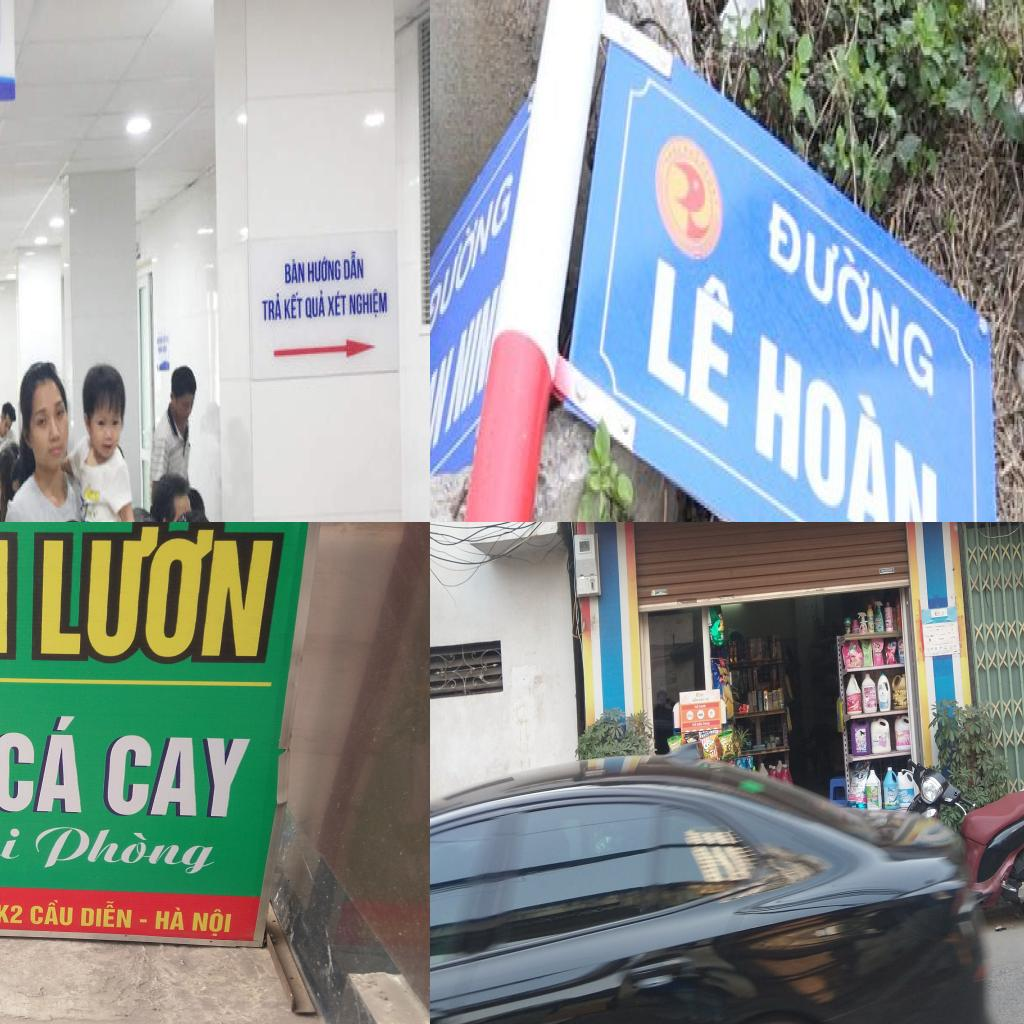text: (764, 181, 937, 411), (22, 522, 285, 664), (645, 230, 741, 438), (430, 141, 517, 350), (100, 726, 255, 820), (443, 272, 504, 440), (34, 822, 220, 877), (0, 709, 89, 816), (430, 337, 457, 479), (77, 899, 134, 930), (350, 284, 390, 322), (27, 898, 75, 928), (192, 908, 234, 938), (0, 820, 26, 861), (306, 256, 343, 284), (152, 905, 184, 932), (344, 249, 367, 284), (261, 289, 283, 324), (282, 255, 306, 287), (306, 289, 328, 321), (283, 290, 304, 323), (327, 287, 348, 320), (0, 903, 23, 925), (701, 739, 715, 752), (707, 743, 715, 754), (691, 698, 699, 704), (703, 721, 711, 727), (874, 650, 882, 656), (697, 721, 703, 728), (888, 793, 896, 798), (704, 696, 710, 702), (699, 704, 706, 709), (698, 697, 704, 702), (691, 722, 697, 727), (694, 704, 699, 709)
